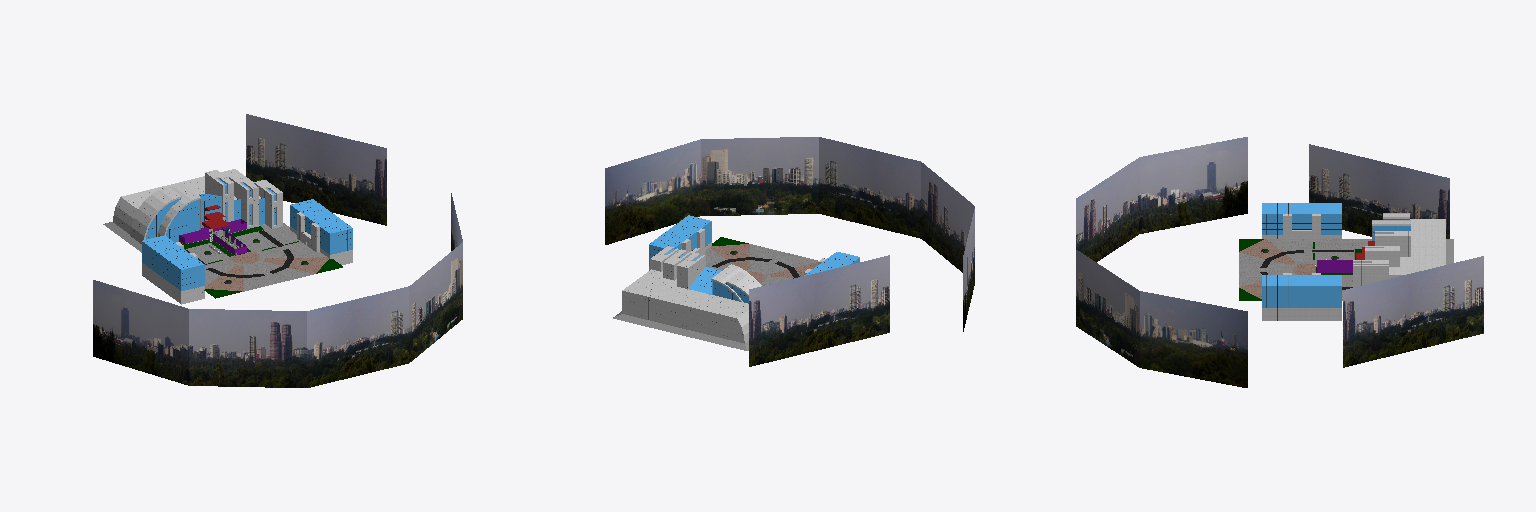
The picture shows the model from 3 angles: view 1: azimuth 30°, elevation 25°; view 2: azimuth 150°, elevation 25°; view 3: azimuth 270°, elevation 25°; orthographic projection.
Parts seen in each view (by area): view 1: Plane001, Plane002, Piso_Afuera, Edif02, Edif01, Vidrios, Pared_Techo, Arco02, Bloque02, Bloque01, Bordes, Bloque03 (+1 smaller); view 2: Plane001, Plane003, Pared_Techo, Piso_Afuera, Edif01, Piso_Interno, Vidrios, Bloque01, Edif02; view 3: Plane001, Plane002, Plane003, Piso_Afuera, Edif01, Edif02, Pared_Techo, Bloque03, Bloque01, Bloque02.
Boxes of the visible parts, <box> form: Plane001: <box>93,193,462,387</box>; Plane002: <box>246,114,386,225</box>; Piso_Afuera: <box>185,223,342,298</box>; Edif02: <box>142,235,204,304</box>; Edif01: <box>290,199,352,264</box>; Vidrios: <box>146,194,264,242</box>; Pared_Techo: <box>113,169,260,233</box>; Arco02: <box>130,187,181,243</box>; Bloque02: <box>229,174,258,228</box>; Bloque01: <box>205,170,233,221</box>; Bordes: <box>179,219,246,254</box>; Bloque03: <box>254,180,282,228</box>; Plane001: <box>605,137,974,331</box>; Plane003: <box>749,255,889,366</box>; Pared_Techo: <box>622,269,748,343</box>; Piso_Afuera: <box>705,237,817,285</box>; Edif01: <box>649,215,711,270</box>; Piso_Interno: <box>613,311,748,350</box>; Vidrios: <box>689,267,748,303</box>; Bloque01: <box>677,252,705,288</box>; Edif02: <box>804,252,859,275</box>; Plane001: <box>1076,137,1247,387</box>; Plane002: <box>1343,256,1483,367</box>; Plane003: <box>1309,144,1449,238</box>; Piso_Afuera: <box>1239,239,1371,300</box>; Edif01: <box>1262,273,1341,320</box>; Edif02: <box>1262,203,1341,240</box>; Pared_Techo: <box>1389,219,1445,278</box>; Bloque03: <box>1353,260,1388,287</box>; Bloque01: <box>1375,231,1410,256</box>; Bloque02: <box>1365,246,1399,266</box>.
Size of the model in its own units: 13056 by 3143 by 12901.
Materials: 22 (8 with a texture image).